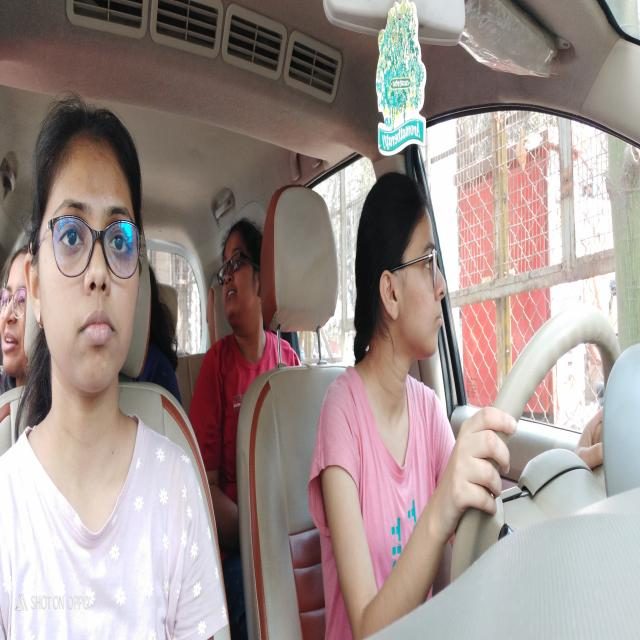LeftRight: (355, 166, 449, 399)
person: (26, 93, 149, 416), (219, 203, 264, 335), (2, 253, 31, 379)
